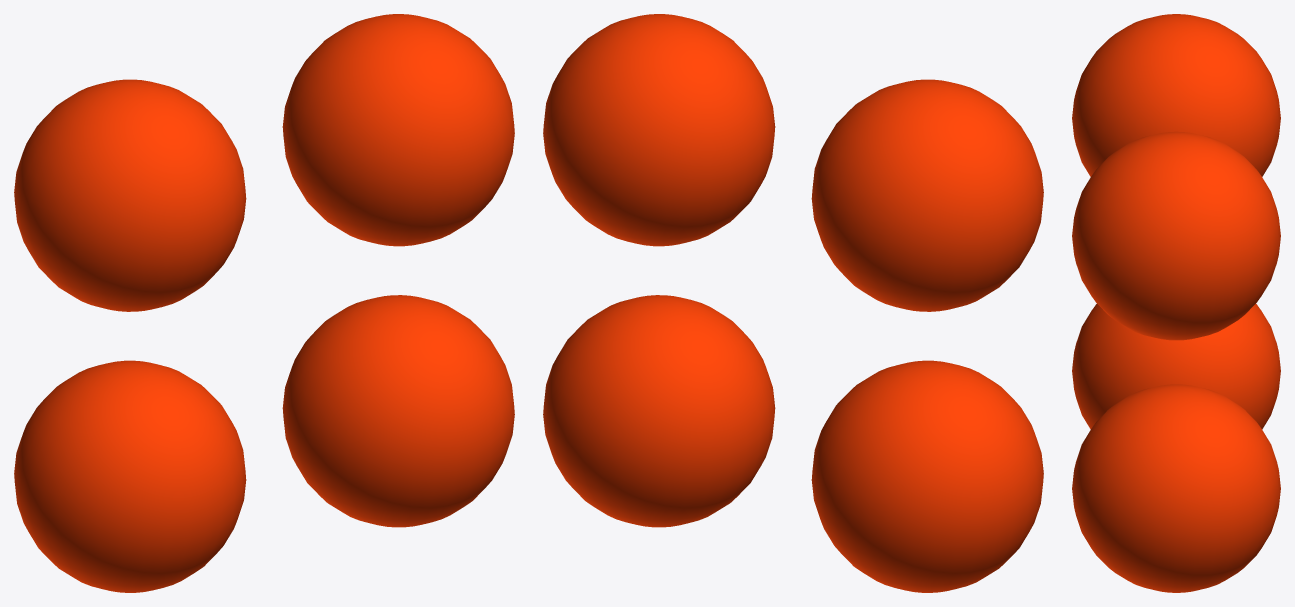
Rendered from AO_Checker.glb.
The picture shows the model from 3 angles, left to right: view 1: azimuth 30°, elevation 25°; view 2: azimuth 150°, elevation 25°; view 3: azimuth 270°, elevation 25°; orthographic projection. The views are drawn at different scales.
Parts seen in each view (by area): view 1: AO strength 1, AO strength None, AO strength 0.5, AO strength 0; view 2: AO strength 1, AO strength None, AO strength 0.5, AO strength 0; view 3: AO strength None, AO strength 0.5, AO strength 1, AO strength 0.
Boxes of the visible parts, x1,y1,x2,y2 form: AO strength 1: (14, 79, 246, 311); AO strength None: (282, 295, 514, 527); AO strength 0.5: (282, 14, 514, 246); AO strength 0: (14, 360, 246, 592); AO strength 1: (811, 79, 1043, 311); AO strength None: (543, 295, 775, 527); AO strength 0.5: (543, 14, 775, 246); AO strength 0: (811, 360, 1043, 592); AO strength None: (1072, 384, 1280, 592); AO strength 0.5: (1072, 131, 1280, 340); AO strength 1: (1072, 14, 1280, 176); AO strength 0: (1072, 304, 1280, 429).
Bounding box in the file's own units: 2.8 × 2.8 × 1.2.
4 materials, 4 textured.
